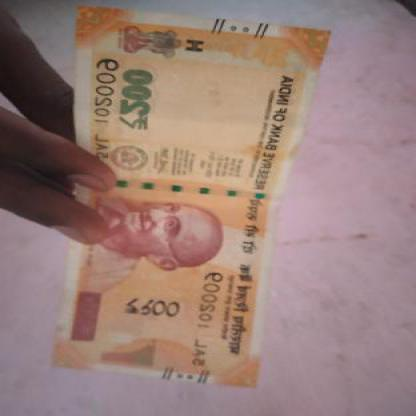New200Front: (66, 25, 328, 386)
